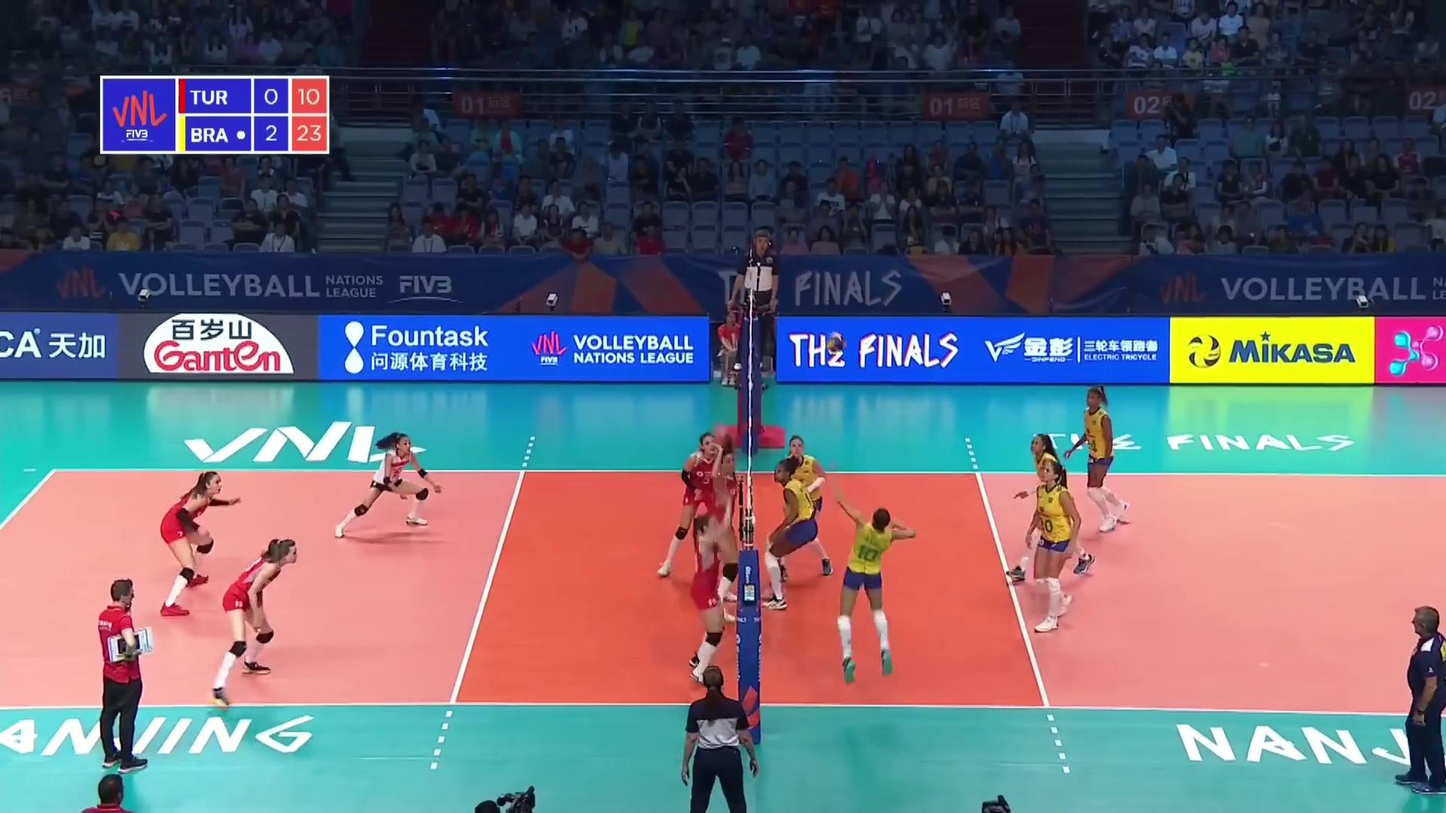player: (830, 490, 920, 685), (212, 538, 298, 710), (1004, 434, 1094, 583), (160, 472, 242, 621), (336, 430, 446, 539), (658, 432, 729, 576), (1024, 465, 1082, 636), (1067, 386, 1131, 532), (691, 487, 734, 684), (766, 457, 817, 609), (777, 435, 831, 578), (710, 446, 741, 623)
refree: (681, 670, 759, 813), (731, 233, 781, 371)
